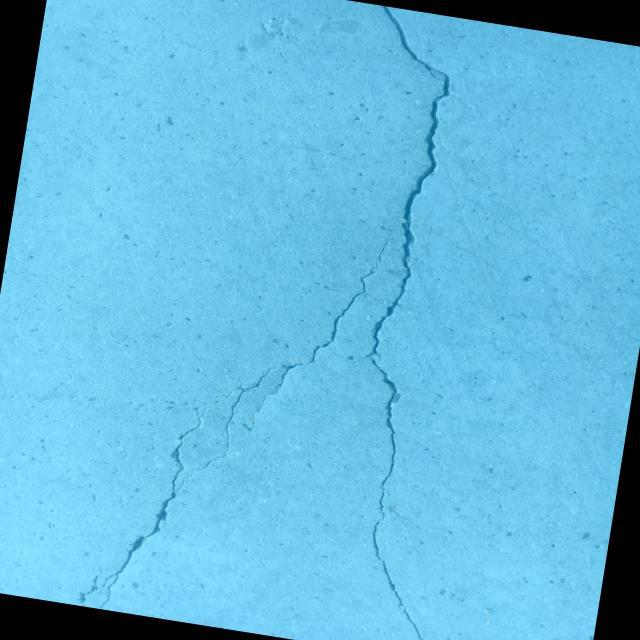crack: (280, 5, 530, 640), (98, 188, 395, 640), (76, 562, 105, 609), (164, 394, 198, 414), (197, 452, 224, 476)
